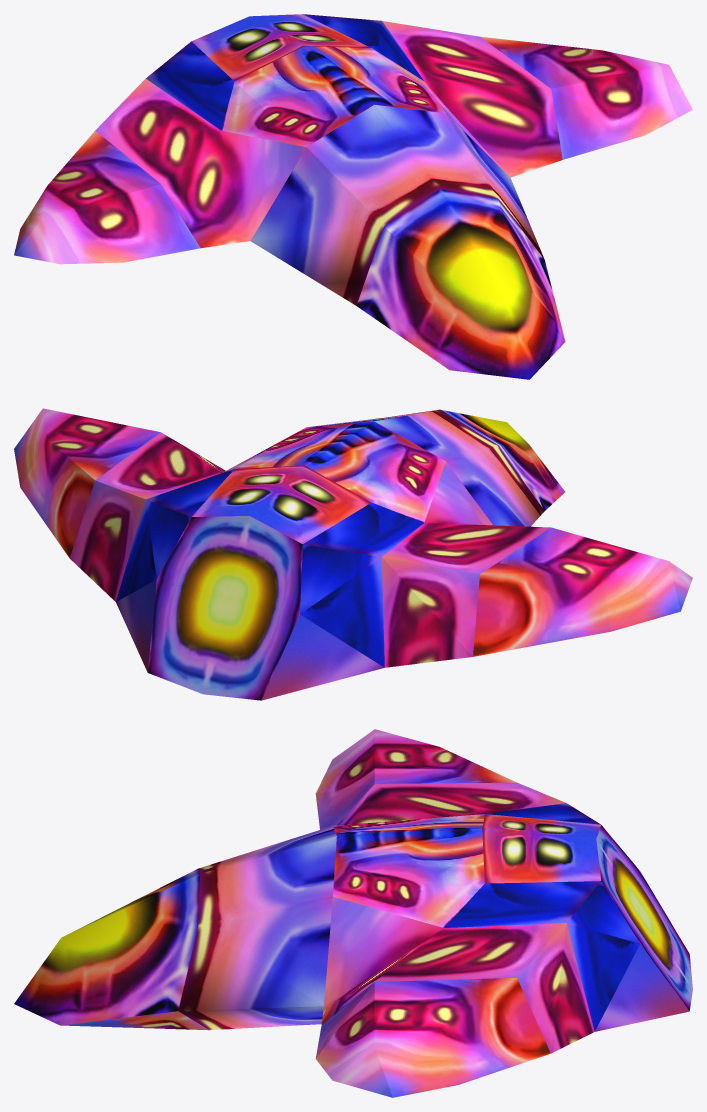
File: ship-63.fbx
3 renders of one model, top to bottom at view 1: azimuth 30°, elevation 25°; view 2: azimuth 150°, elevation 25°; view 3: azimuth 270°, elevation 25°, orthographic. The views are drawn at different scales.
Visible parts, largest first — view 1: ship-63; view 2: ship-63; view 3: ship-63.
Boxes of the visible parts, x1,y1,x2,y2 form: ship-63: (14,14,692,379); ship-63: (14,408,692,700); ship-63: (14,729,692,1097).
Bounding box in the file's own units: 47.89 × 13.31 × 40.62.
